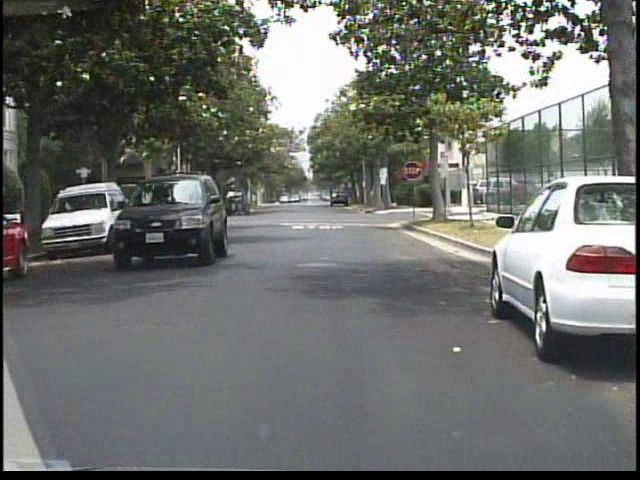person: (237, 181, 257, 223)
